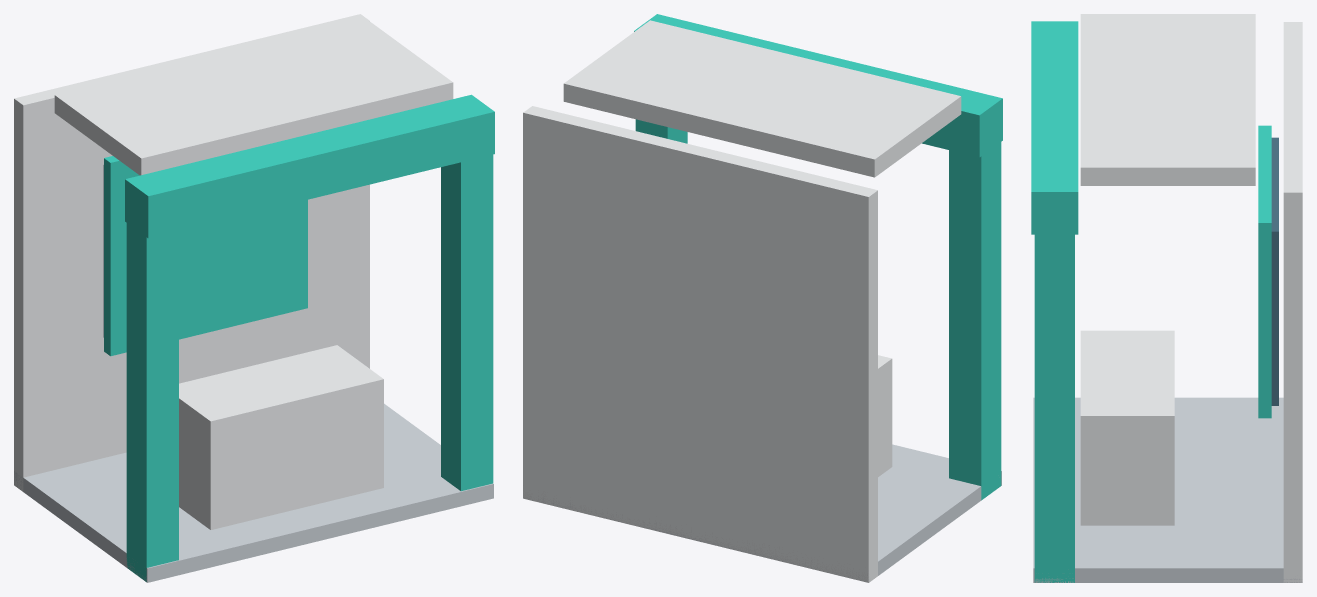
The picture shows the model from 3 angles, left to right: view 1: azimuth 30°, elevation 25°; view 2: azimuth 150°, elevation 25°; view 3: azimuth 270°, elevation 25°; orthographic projection.
Visible parts, largest first — view 1: Exhibition Booth Concept; view 2: Exhibition Booth Concept; view 3: Exhibition Booth Concept.
Part boxes in pixels (box(x1,y1,x2,y2)): Exhibition Booth Concept: box(14, 14, 494, 582); Exhibition Booth Concept: box(523, 14, 1002, 582); Exhibition Booth Concept: box(1031, 14, 1302, 582).
Size of the model in its own units: 3 by 3.34 by 2.01.
